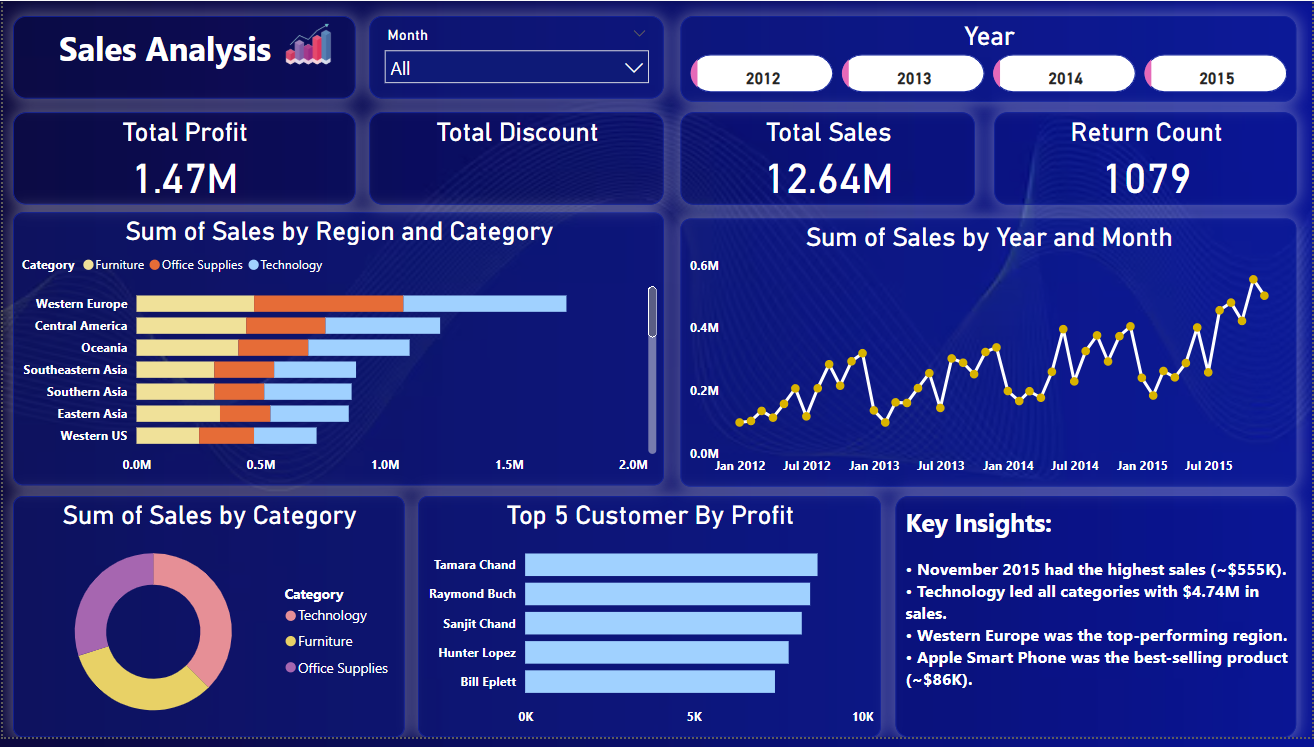

What the dashboard file says about the page in this screenshot:
{"tool":"powerbi","page":{"name":"Sale Analysis","canvas":[1280,720],"ordinal":0},"visuals":[{"type":"card","title":"Total Profit","fields":{"Values":["Orders.Profit"]},"box":[9.6,108.4,334.8,90.6],"z":0},{"type":"lineChart","fields":{"Y":["Orders.Sales"],"Category":["Orders.Order Date.Variation.Date Hierarchy.Year","Orders.Order Date.Variation.Date Hierarchy.Month"]},"box":[662.8,212.7,602.4,262.1],"z":1},{"type":"advancedSlicerVisual","fields":{"Values":["Orders.Order Date.Variation.Date Hierarchy.Year"]},"box":[662.8,15.1,602.4,83.7],"z":2},{"type":"card","title":"Total Sales","fields":{"Values":["Orders.Sales"]},"box":[662.8,108.4,288.2,90.6],"z":3},{"type":"barChart","fields":{"Category":["Orders.Region"],"Y":["Orders.Sales"],"Series":["Orders.Category"]},"box":[9.6,207.2,636.7,267.6],"z":4},{"type":"donutChart","fields":{"Category":["Orders.Category"],"Y":["Orders.Sales"]},"box":[9.6,484.4,382.8,236],"z":5},{"type":"card","title":"Return Count","fields":{"Values":["Returns.Returns Count"]},"box":[970.2,108.4,296.4,90.6],"z":6},{"type":"textbox","box":[9.6,15.1,334.8,81],"z":7},{"type":"image","box":[248.4,0,101.5,108.4],"z":9},{"type":"slicer","fields":{"Values":["Orders.Order Date.Variation.Date Hierarchy.Month"]},"box":[358.1,15.1,288.2,81],"z":10},{"type":"kpi","title":"Total Discount","fields":{"Indicator":["Orders.Order ID"]},"box":[358.1,108.4,288.2,90.6],"z":12},{"type":"barChart","title":"Top 5 Customer By Profit","fields":{"Category":["Orders.Customer Name"],"Y":["Orders.Profit"]},"box":[406.2,484.4,452.8,236],"z":13},{"type":"textbox","box":[873,484,392,236],"z":14}]}

Visuals, with their boxes in screenshot pixels (x1, y1, x2, y2), scaled from the page's 1280x720 canvas onto the 1314x747 screenshot:
"Total Profit" card: region(10, 112, 354, 206)
lineChart - Orders.Sales x Orders.Order Date.Variation.Date Hierarchy.Year: region(680, 221, 1299, 493)
advancedSlicerVisual - Orders.Order Date.Variation.Date Hierarchy.Year: region(680, 16, 1299, 103)
"Total Sales" card: region(680, 112, 976, 206)
barChart - Orders.Region x Orders.Sales: region(10, 215, 663, 493)
donutChart - Orders.Category x Orders.Sales: region(10, 503, 403, 746)
"Return Count" card: region(996, 112, 1300, 206)
textbox: region(10, 16, 354, 100)
image: region(255, 0, 359, 112)
slicer - Orders.Order Date.Variation.Date Hierarchy.Month: region(368, 16, 663, 100)
"Total Discount" kpi: region(368, 112, 663, 206)
"Top 5 Customer By Profit" barChart: region(417, 503, 882, 746)
textbox: region(896, 502, 1299, 746)
